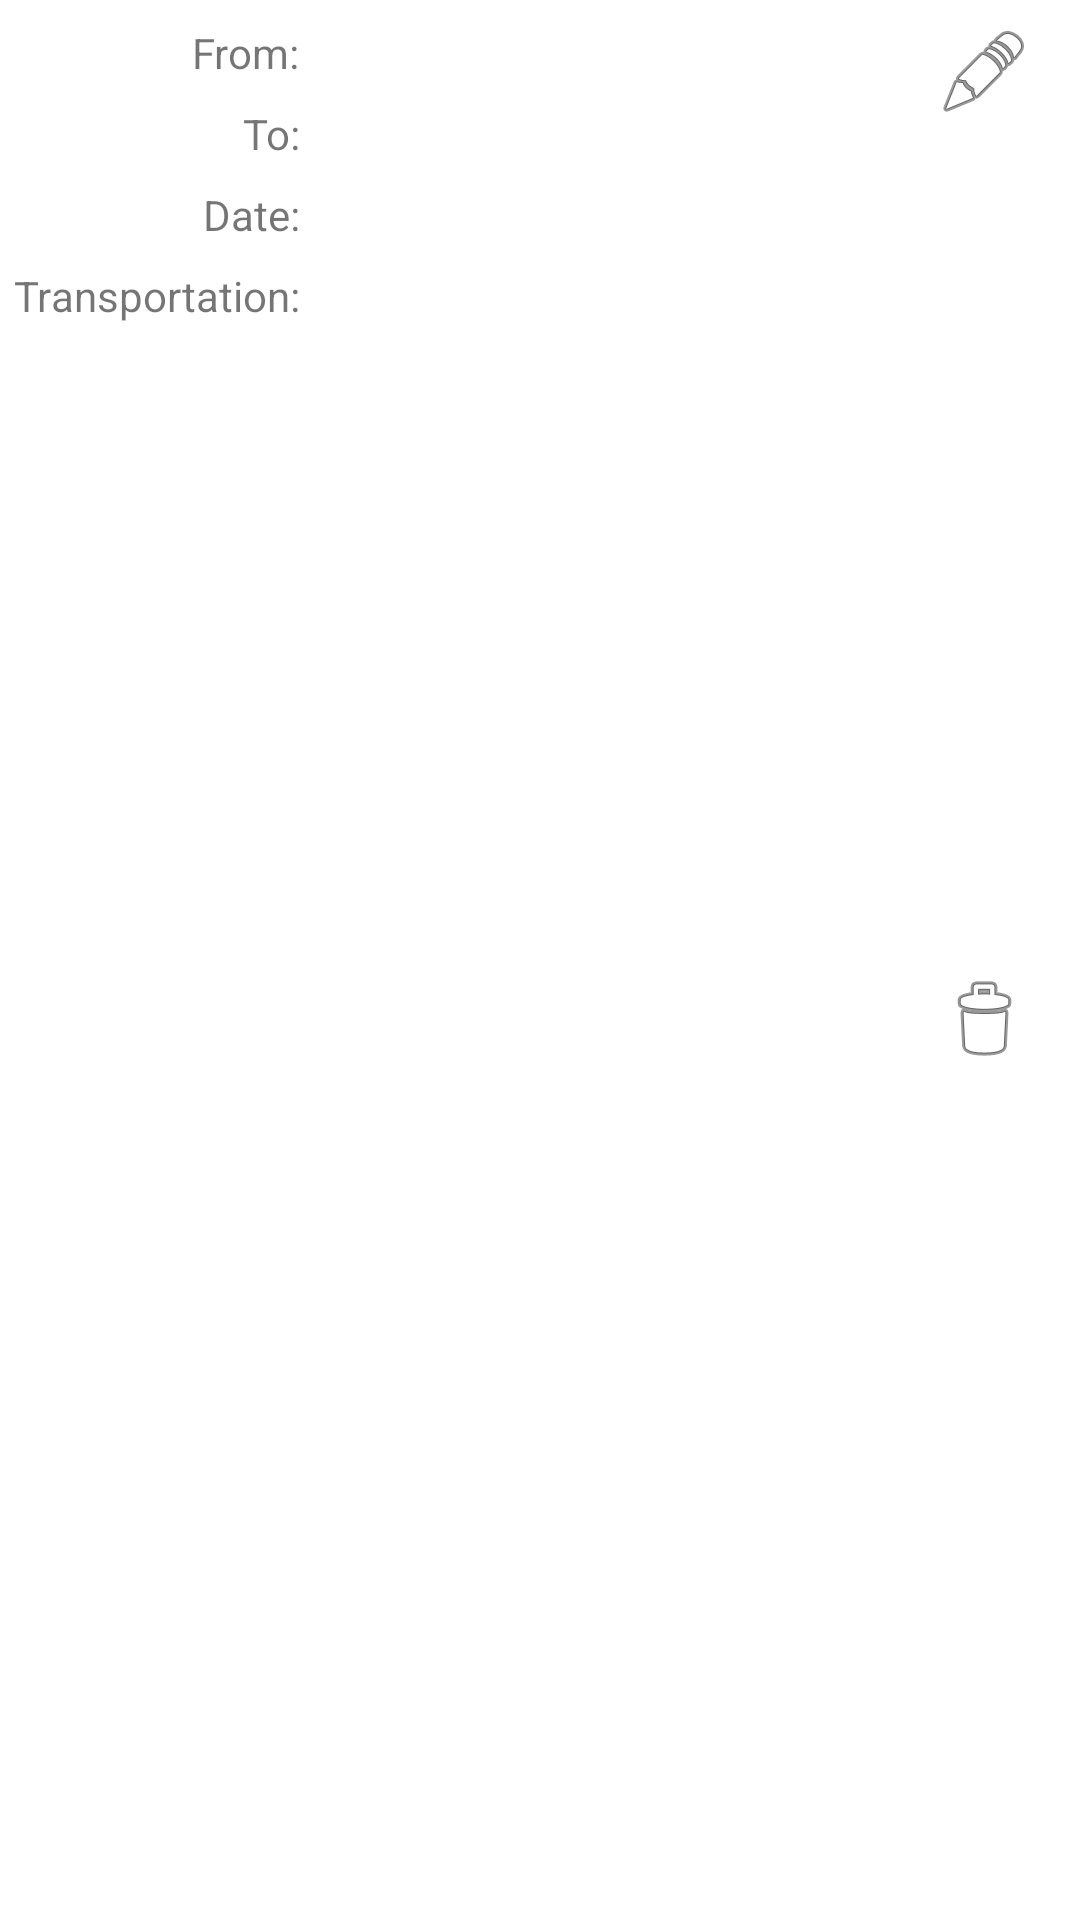

Point at icon controls on the screen. Image size 1080w x 1920h, points as point (x, y).
delete: point (984, 1018)
edit: point (983, 71)
